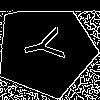Y: (21, 24, 75, 67)
